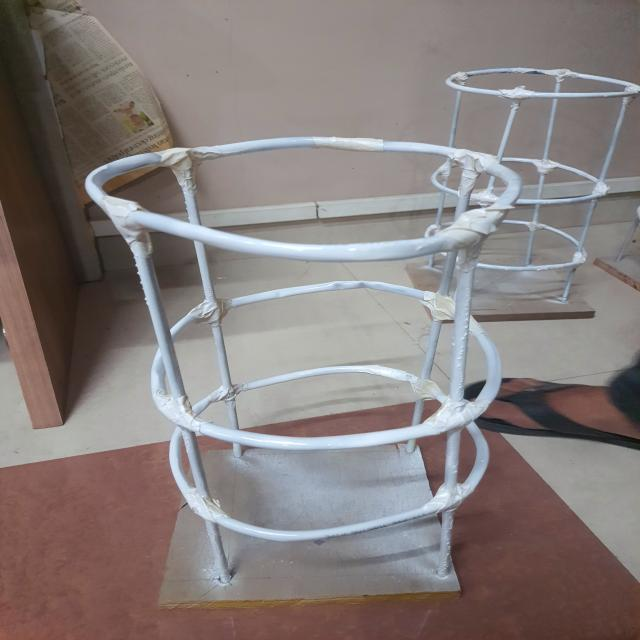silo: (80, 133, 494, 601), (429, 70, 601, 318)
